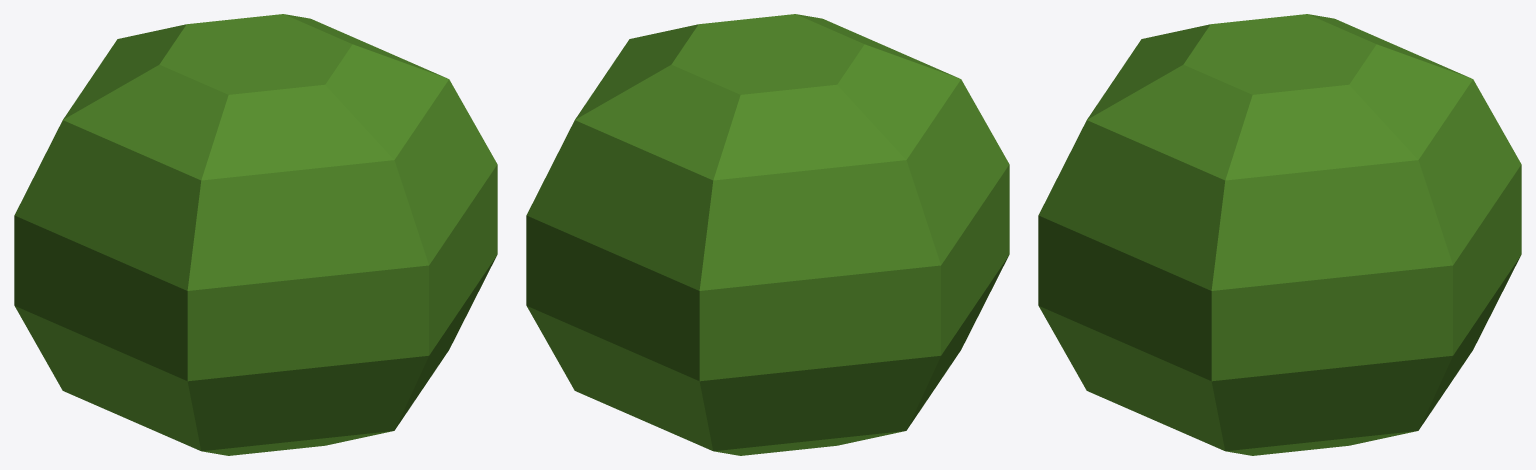
The model's file is Prop_Bush_2.obj.
The picture shows the model from 3 angles, left to right: view 1: azimuth 30°, elevation 25°; view 2: azimuth 150°, elevation 25°; view 3: azimuth 270°, elevation 25°; orthographic projection.
Parts seen in each view (by area): view 1: object1; view 2: object1; view 3: object1.
Boxes of the visible parts, x1=… form: object1: x1=14, y1=14, x2=497, y2=455; object1: x1=526, y1=14, x2=1009, y2=455; object1: x1=1038, y1=14, x2=1521, y2=455.
Bounding box in the file's own units: 0.9615 × 0.8 × 0.9701.
